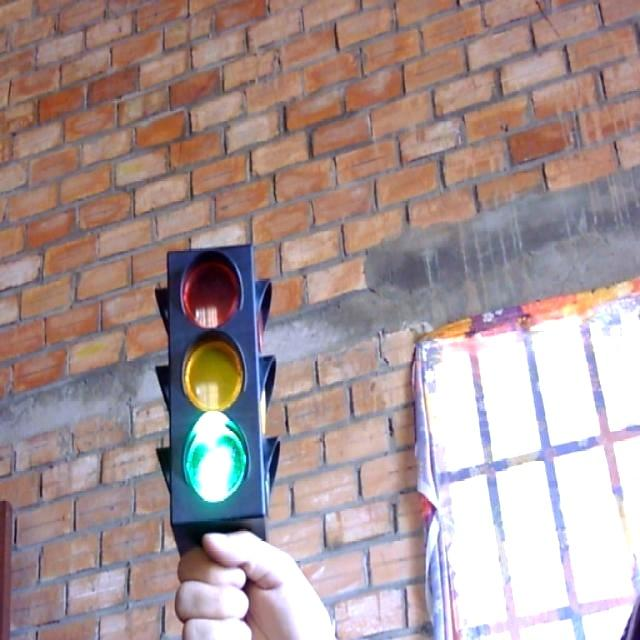Green: (153, 240, 287, 538)
